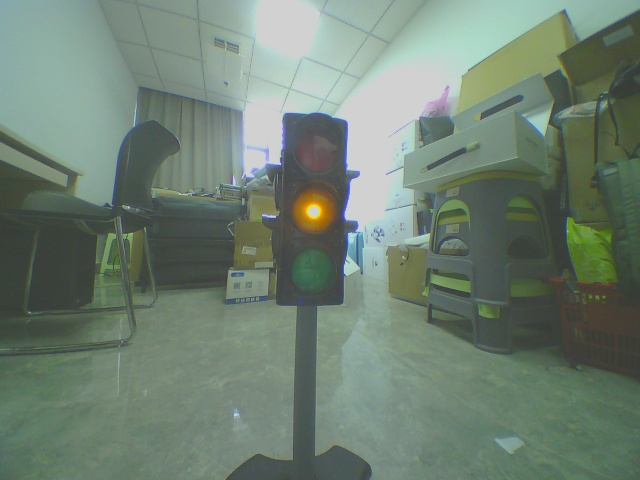Yellow: (257, 94, 375, 319)
